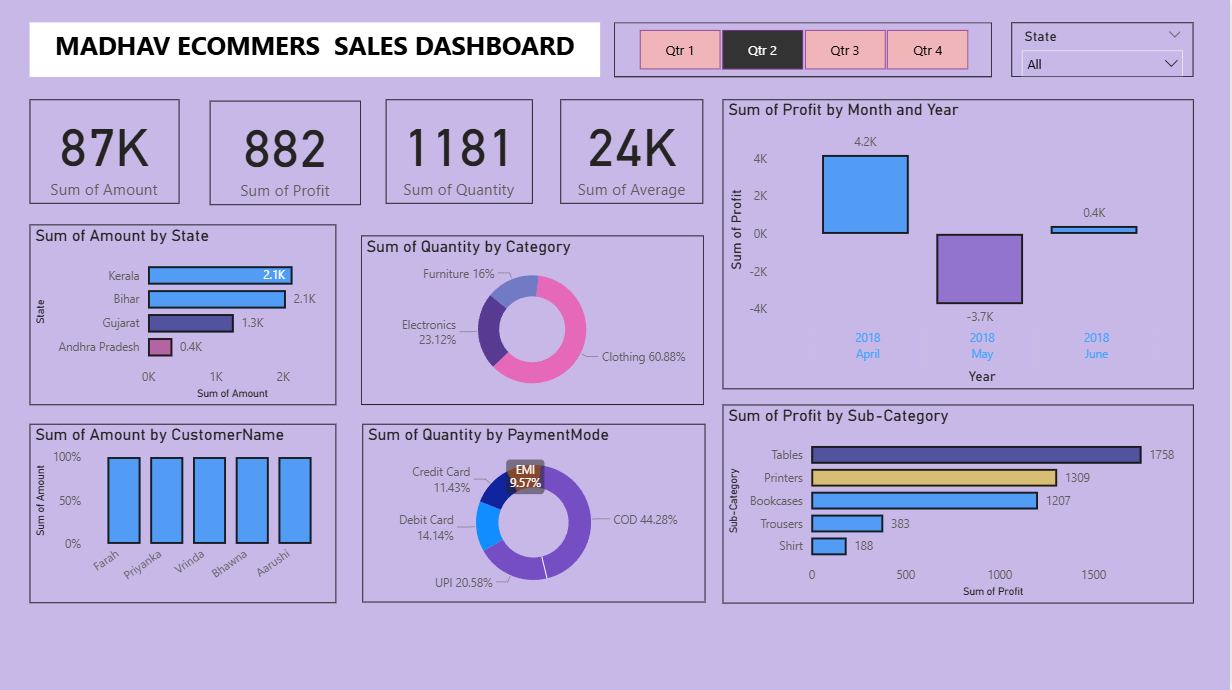

The dashboard page shown, as its layout file describes it:
{"tool":"powerbi","page":{"name":"Page 1","canvas":[1280,720],"ordinal":0},"visuals":[{"type":"textbox","box":[33.1,23.6,592.6,56.7],"z":0},{"type":"columnChart","fields":{"Y":["Details.Profit"],"Category":["Orders.Order Date.Variation.Date Hierarchy.Month","Orders.Order Date.Variation.Date Hierarchy.Year"]},"box":[752.3,104.5,489.6,301.2],"z":1000},{"type":"barChart","fields":{"Category":["Details.Sub-Category"],"Y":["Details.Profit"]},"box":[752.3,420.8,489.6,206.3],"z":2000},{"type":"donutChart","fields":{"Category":["Details.Category"],"Y":["Details.Quantity"]},"box":[376.8,246.2,356.2,176],"z":3000},{"type":"donutChart","fields":{"Y":["Details.Quantity"],"Category":["Details.PaymentMode"]},"box":[378.2,441.5,356.2,185.7],"z":4000},{"type":"card","fields":{"Values":["Details.Amount"]},"box":[33,104.5,155.4,108.6],"z":5000},{"type":"card","fields":{"Values":["Details.Profit"]},"box":[220,105.9,156.8,108.6],"z":6000},{"type":"card","fields":{"Values":["Details.Quantity"]},"box":[403,104.5,152.7,108.6],"z":7000},{"type":"card","fields":{"Values":["Details.Average"]},"box":[584.5,104.5,148.5,108.6],"z":8000},{"type":"barChart","fields":{"Category":["Orders.State"],"Y":["Details.Amount"]},"box":[33.1,234.8,318.4,187.5],"z":9000},{"type":"hundredPercentStackedColumnChart","fields":{"Category":["Orders.CustomerName"],"Y":["Details.Amount"]},"box":[33.1,441.3,318.4,186],"z":10000},{"type":"slicer","fields":{"Values":["Orders.Order Date.Variation.Date Hierarchy.Quarter"]},"box":[639.9,23.6,392.4,56.7],"z":11000},{"type":"slicer","fields":{"Values":["Orders.State"]},"box":[1052.8,23.6,189.1,56.7],"z":12000}]}

Visuals, with their boxes in screenshot pixels (x1, y1, x2, y2), scaled from the page's 1280x720 canvas onto the 1232x690 screenshot:
textbox: 32, 23, 602, 77
columnChart - Details.Profit x Orders.Order Date.Variation.Date Hierarchy.Month: 724, 100, 1195, 389
barChart - Details.Sub-Category x Details.Profit: 724, 403, 1195, 601
donutChart - Details.Category x Details.Quantity: 363, 236, 706, 405
donutChart - Details.Quantity x Details.PaymentMode: 364, 423, 707, 601
card - Details.Amount: 32, 100, 181, 204
card - Details.Profit: 212, 101, 363, 206
card - Details.Quantity: 388, 100, 535, 204
card - Details.Average: 563, 100, 706, 204
barChart - Orders.State x Details.Amount: 32, 225, 338, 405
hundredPercentStackedColumnChart - Orders.CustomerName x Details.Amount: 32, 423, 338, 601
slicer - Orders.Order Date.Variation.Date Hierarchy.Quarter: 616, 23, 994, 77
slicer - Orders.State: 1013, 23, 1195, 77
